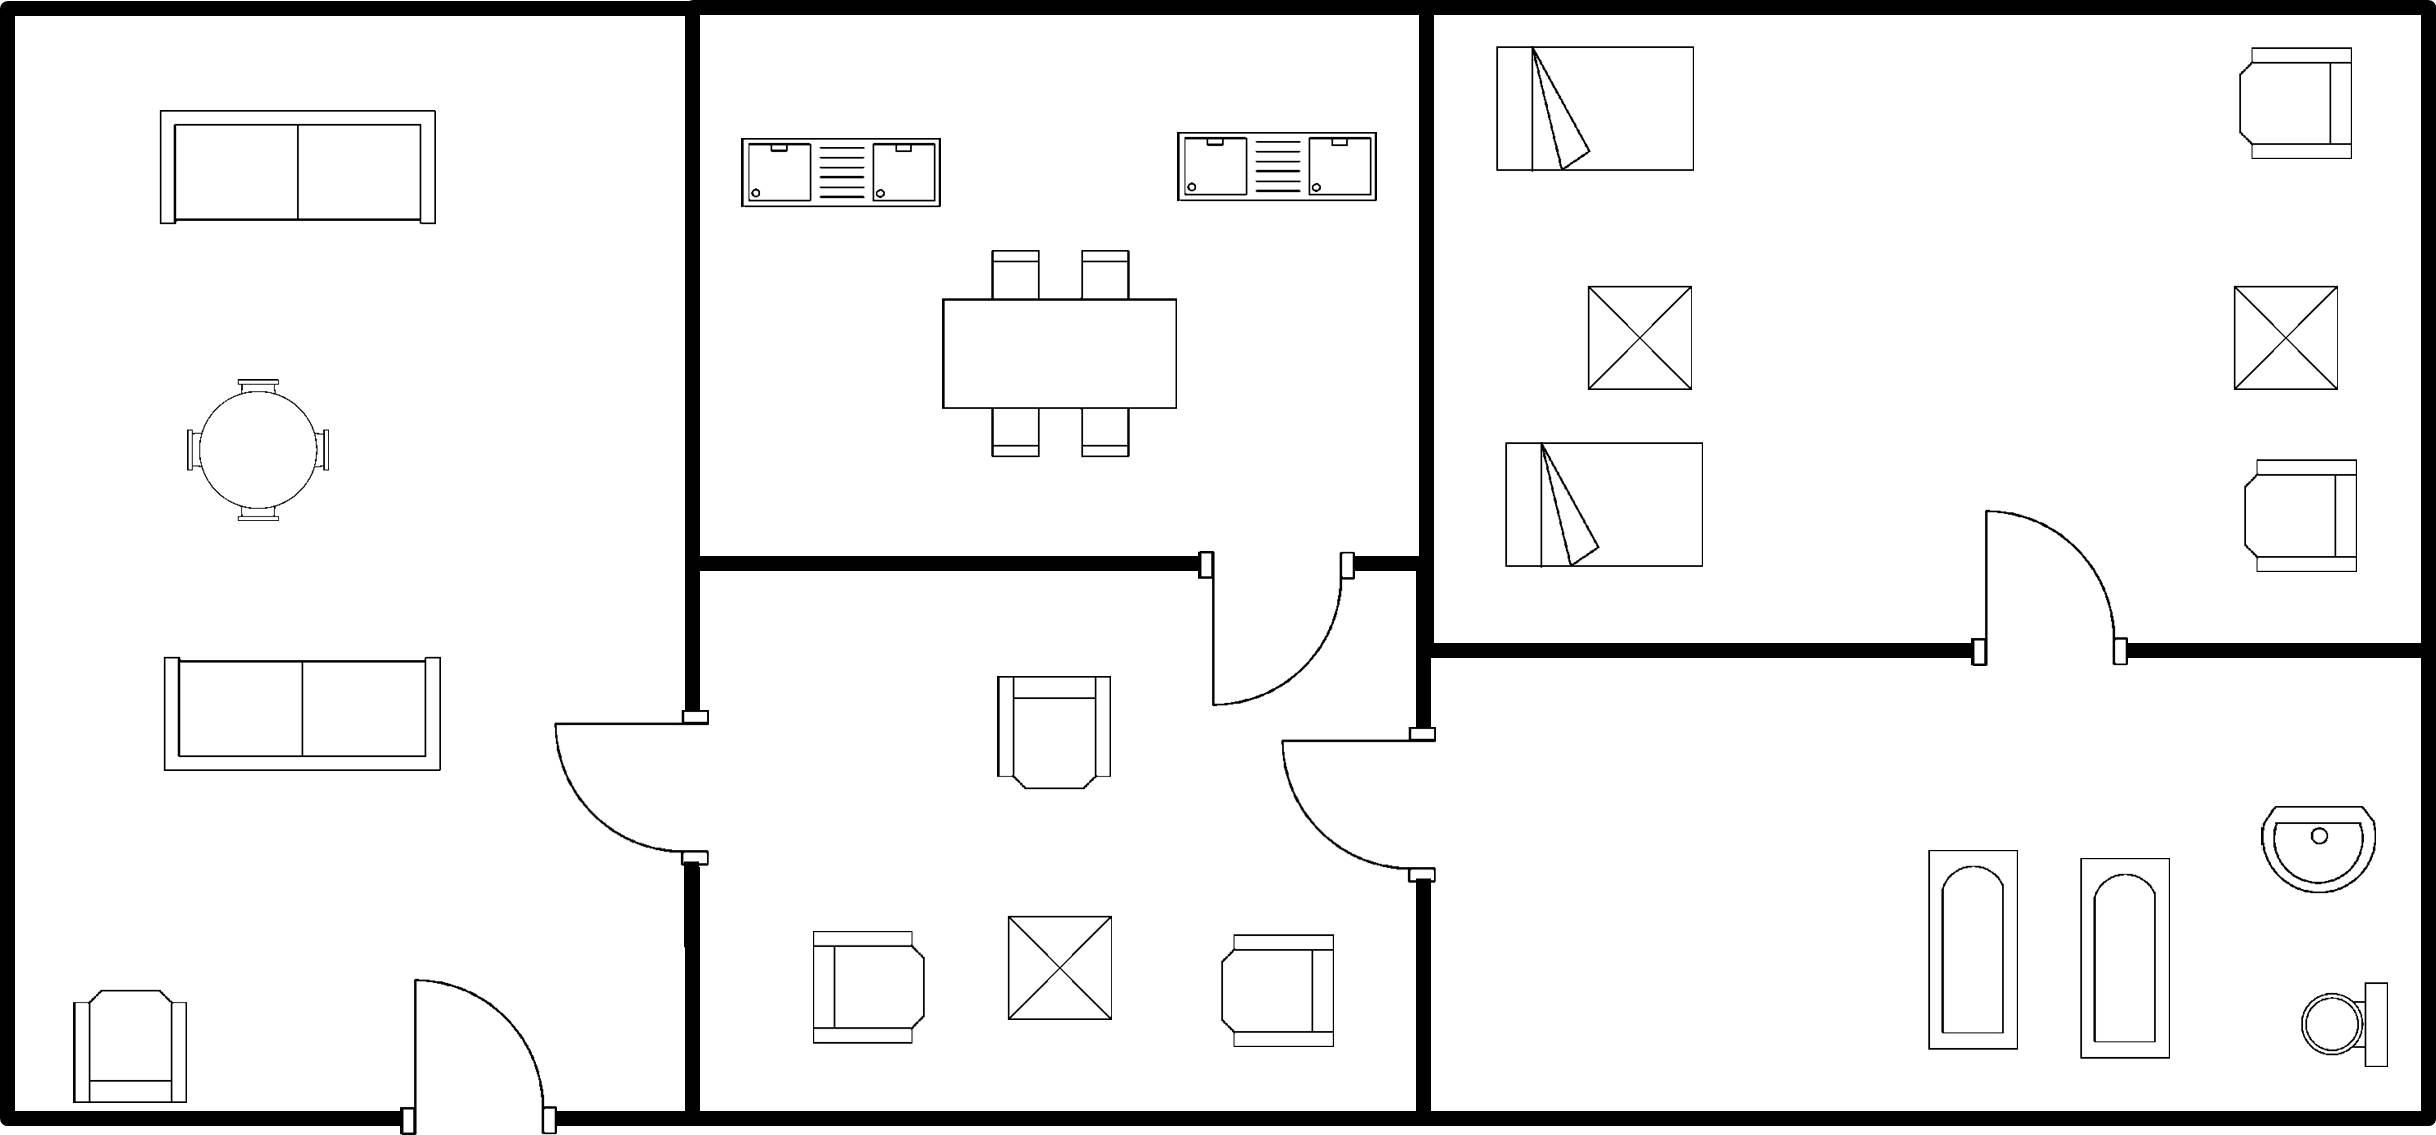armchair: (1206, 918, 1351, 1061), (2225, 441, 2368, 587), (982, 663, 1123, 806), (799, 918, 940, 1061), (56, 975, 201, 1111), (2228, 34, 2363, 177)
bed: (1492, 420, 1718, 586), (1483, 32, 1713, 180)
coffee_table: (2221, 274, 2363, 411), (989, 901, 1128, 1036), (1575, 274, 1706, 405)
dining_table: (928, 241, 1189, 470)
large_sink: (2289, 972, 2404, 1087)
large_sofa: (144, 99, 454, 243), (149, 649, 456, 789)
round_table: (168, 363, 347, 532)
small_sink: (2242, 791, 2389, 905)
tub: (1915, 836, 2035, 1065), (2068, 844, 2183, 1072)
twin_sink: (732, 122, 952, 222), (1163, 122, 1399, 215)
